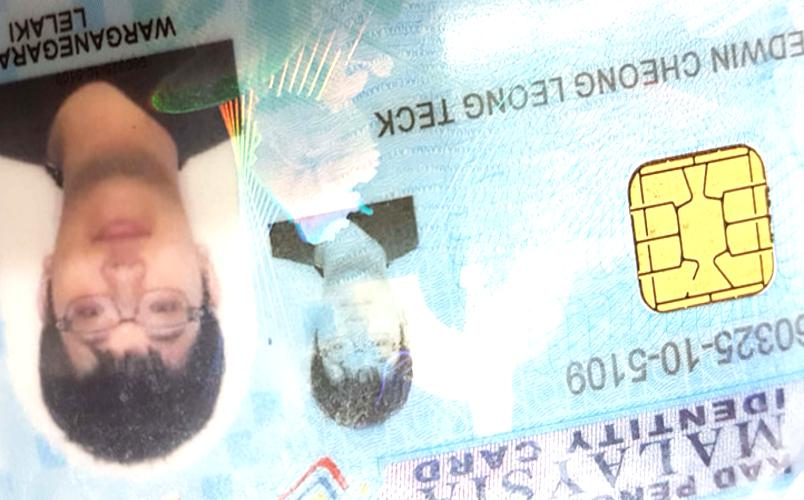hologramB: (236, 6, 374, 207)
